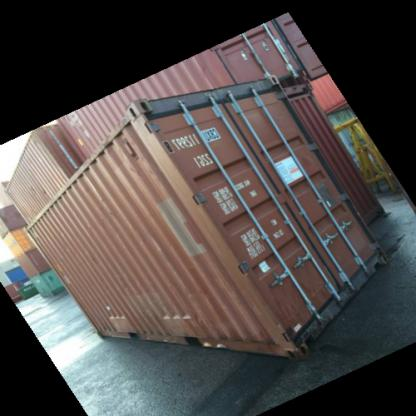Damage: (155, 304, 208, 320), (100, 308, 130, 326)
